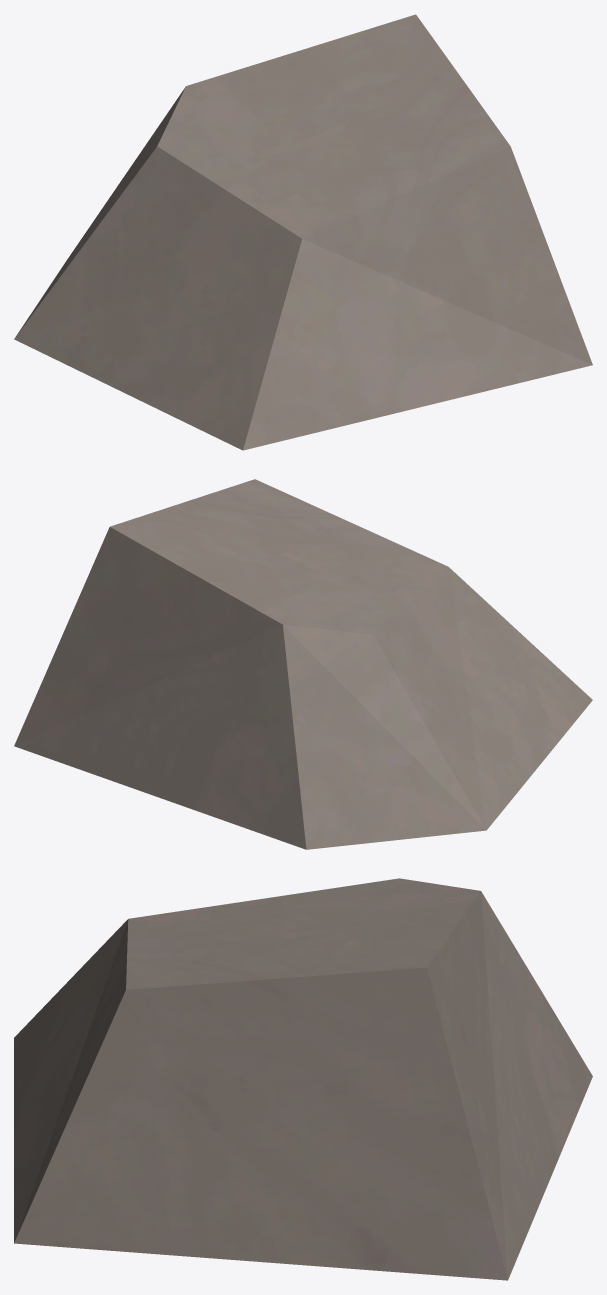
File: Stone01.fbx
3 views of the same model, one above another, from view 1: azimuth 30°, elevation 25°; view 2: azimuth 150°, elevation 25°; view 3: azimuth 270°, elevation 25° (orthographic). The views are drawn at different scales.
Parts seen in each view (by area): view 1: SM_ENV_Nature_GeneralFoliageSet_Stone01.mo; view 2: SM_ENV_Nature_GeneralFoliageSet_Stone01.mo; view 3: SM_ENV_Nature_GeneralFoliageSet_Stone01.mo.
Part boxes in pixels (bbox=[...]): SM_ENV_Nature_GeneralFoliageSet_Stone01.mo: bbox=[14, 14, 592, 450]; SM_ENV_Nature_GeneralFoliageSet_Stone01.mo: bbox=[14, 479, 592, 849]; SM_ENV_Nature_GeneralFoliageSet_Stone01.mo: bbox=[14, 878, 592, 1280].
Size of the model in its own units: 42.74 by 19.65 by 37.81.
Materials: 1 (1 with a texture image).
